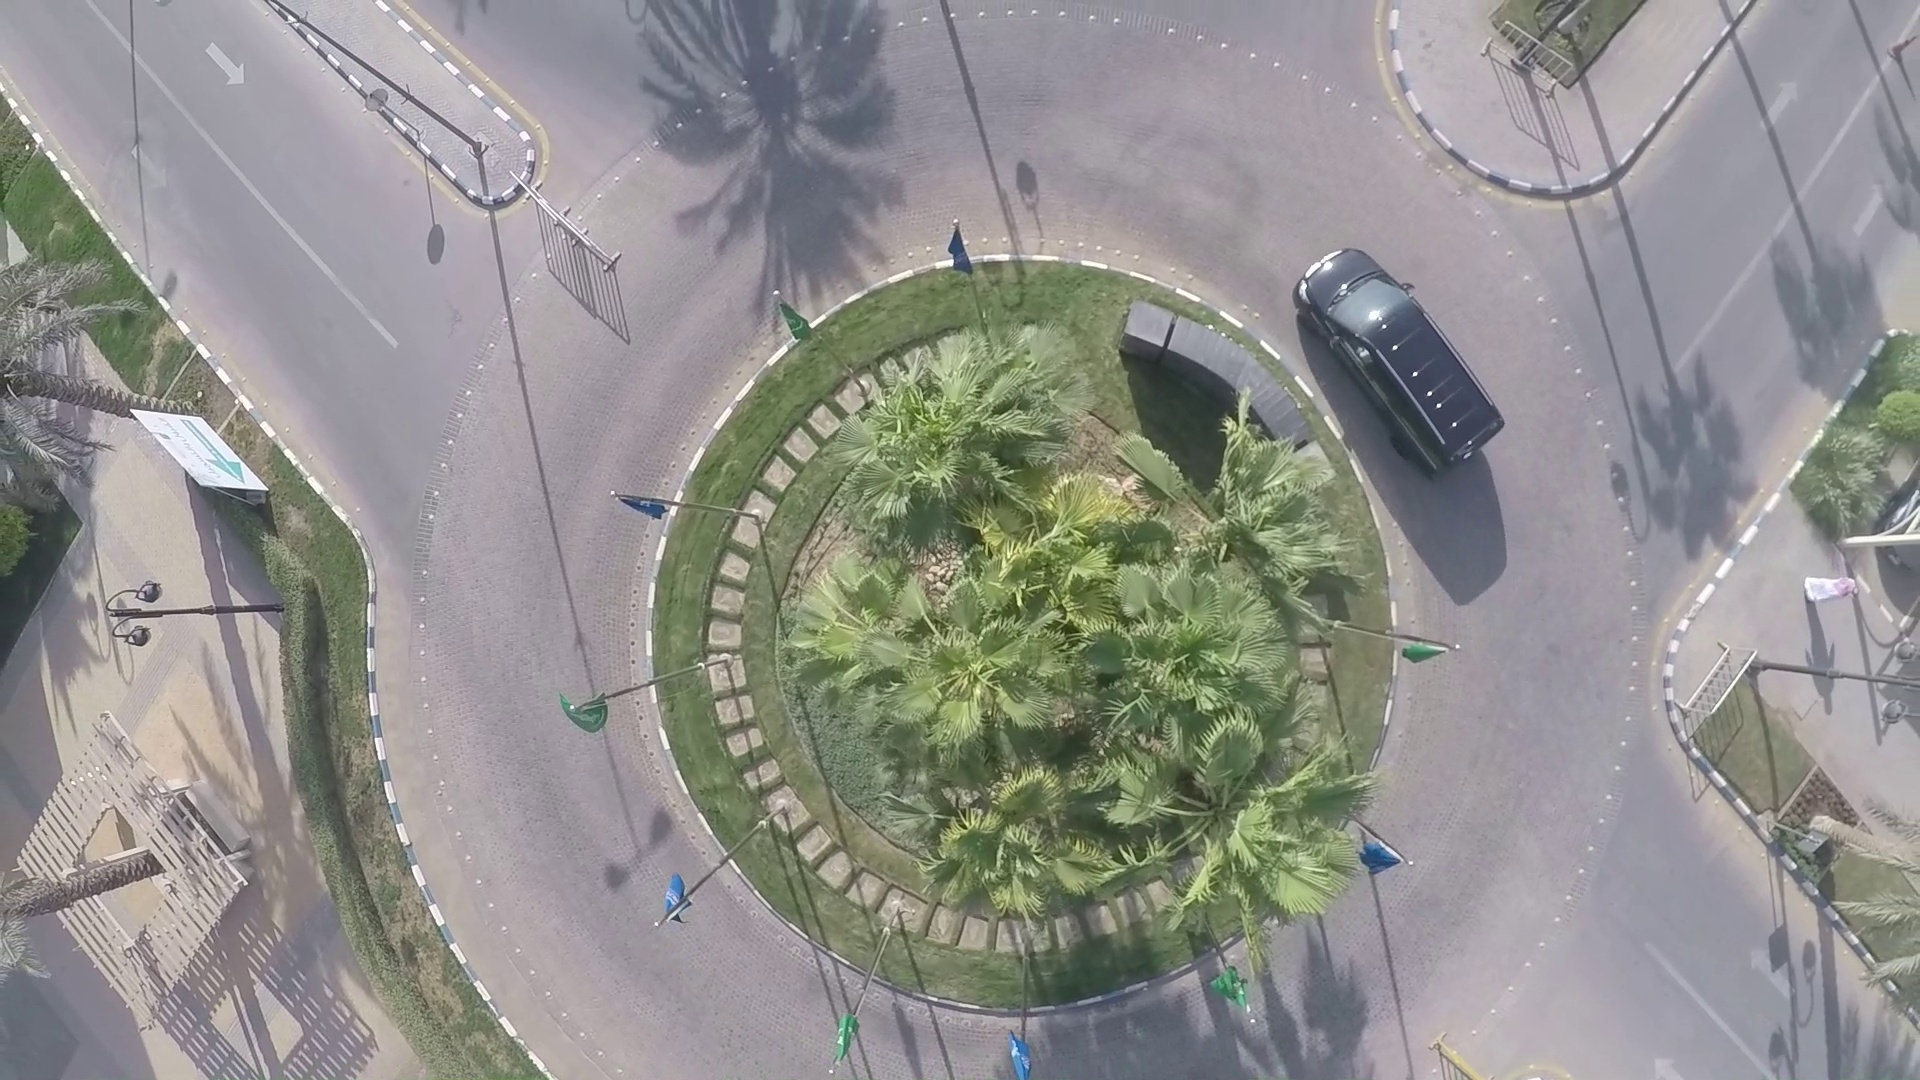car: (1296, 229, 1545, 460)
